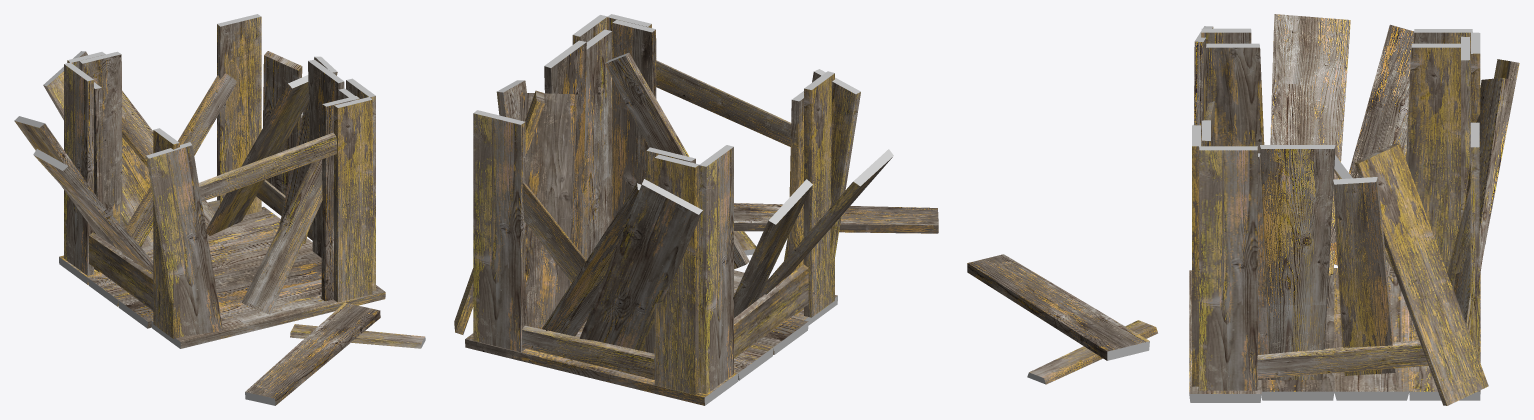
The model's file is Chest5.fbx.
The picture shows the model from 3 angles, left to right: view 1: azimuth 30°, elevation 25°; view 2: azimuth 150°, elevation 25°; view 3: azimuth 270°, elevation 25°; orthographic projection. The views are drawn at different scales.
Visible parts, largest first — view 1: polySurface894; view 2: polySurface894; view 3: polySurface894.
Boxes of the visible parts, x1=… form: polySurface894: x1=14, y1=14, x2=425, y2=405; polySurface894: x1=454, y1=14, x2=938, y2=405; polySurface894: x1=967, y1=14, x2=1519, y2=405.
Size of the model in its own units: 1.63 by 1.02 by 2.05.
